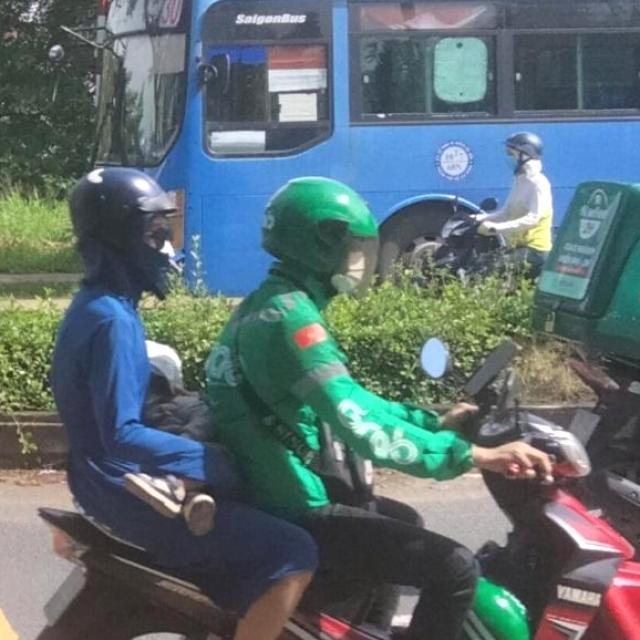Helmet: (66, 162, 184, 296), (258, 168, 375, 298), (500, 126, 546, 173)
